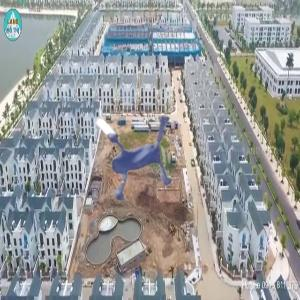drone: (65, 80, 201, 216)
